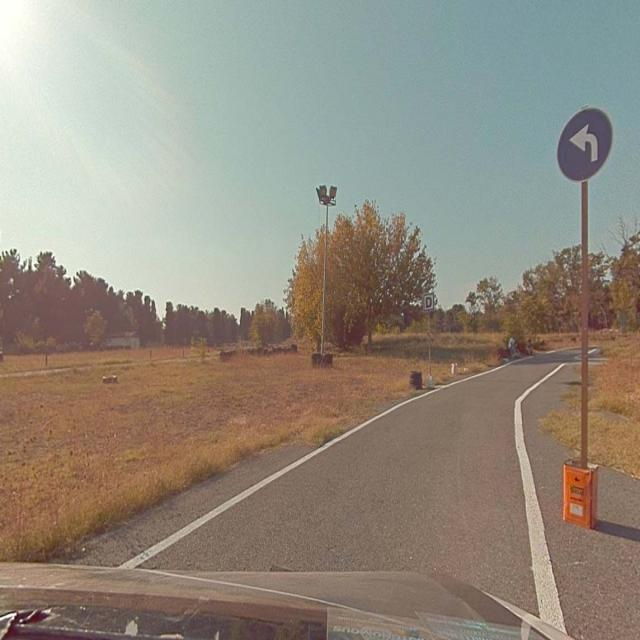durak: (424, 294, 433, 310)
sol: (556, 107, 613, 181)
